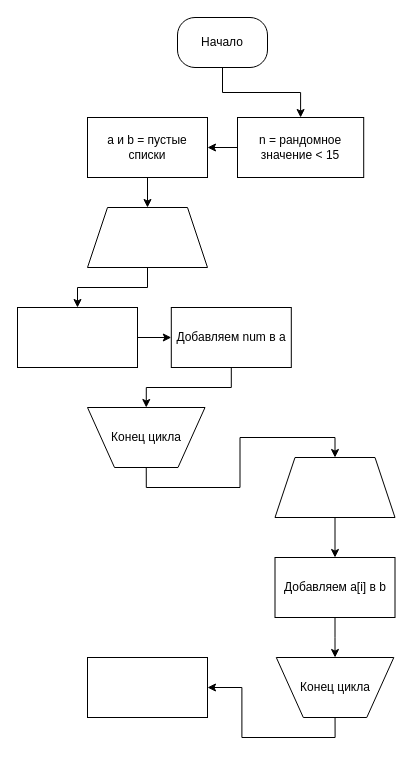
This 413x763 diagram has some shape labels left out. Each missing label, with the centre of its shape:
num = рандобное число < 15: (x=77, y=337)
Вывод a, b и длинну списка b: (x=147, y=687)
Пока i<n, i + 1: (x=147, y=237)
Пока i<n, i + 3: (x=334, y=487)
